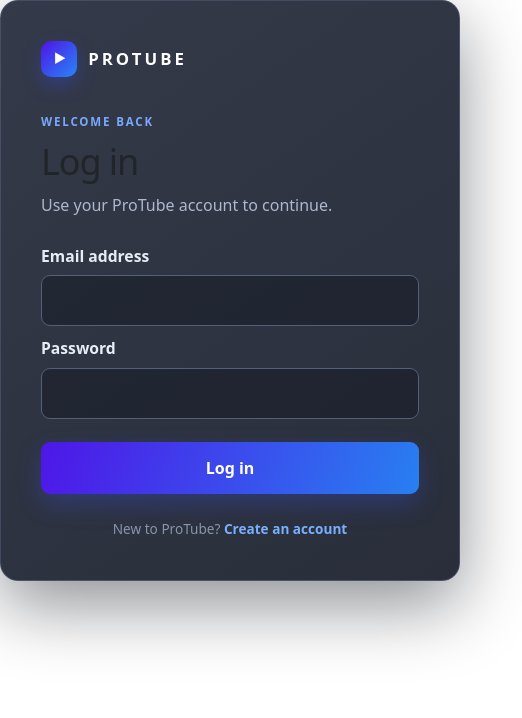
Test: LoginForm › shows the same error for invalid credentials
Type "user@example.com" into the field labelled "Email address" at coordinates (230, 301), box [41,275,419,326]
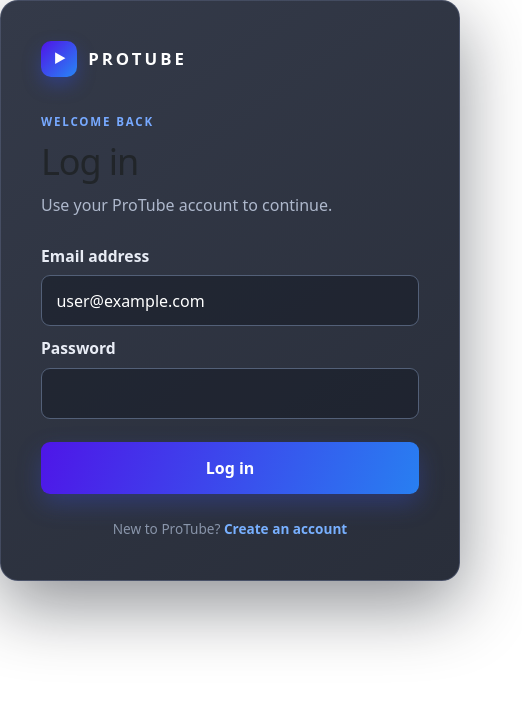
Type "wrongpass" into the password field labelled "Password" at coordinates (230, 394), box [41,368,419,419]
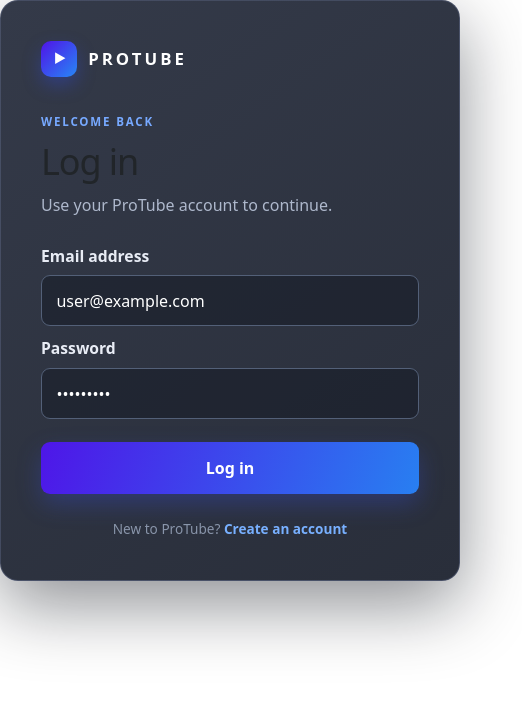
Click the button "Log in" at coordinates (230, 468), box [41,442,419,494]
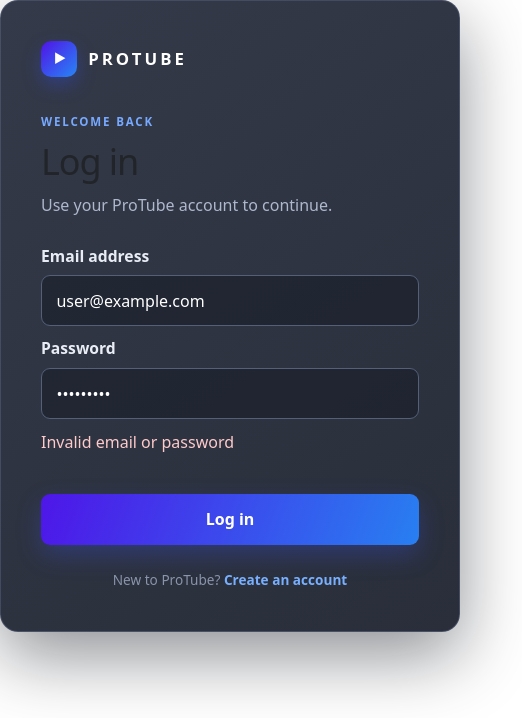
Result: the text "Invalid email or password" is shown at [41,431,234,453]
